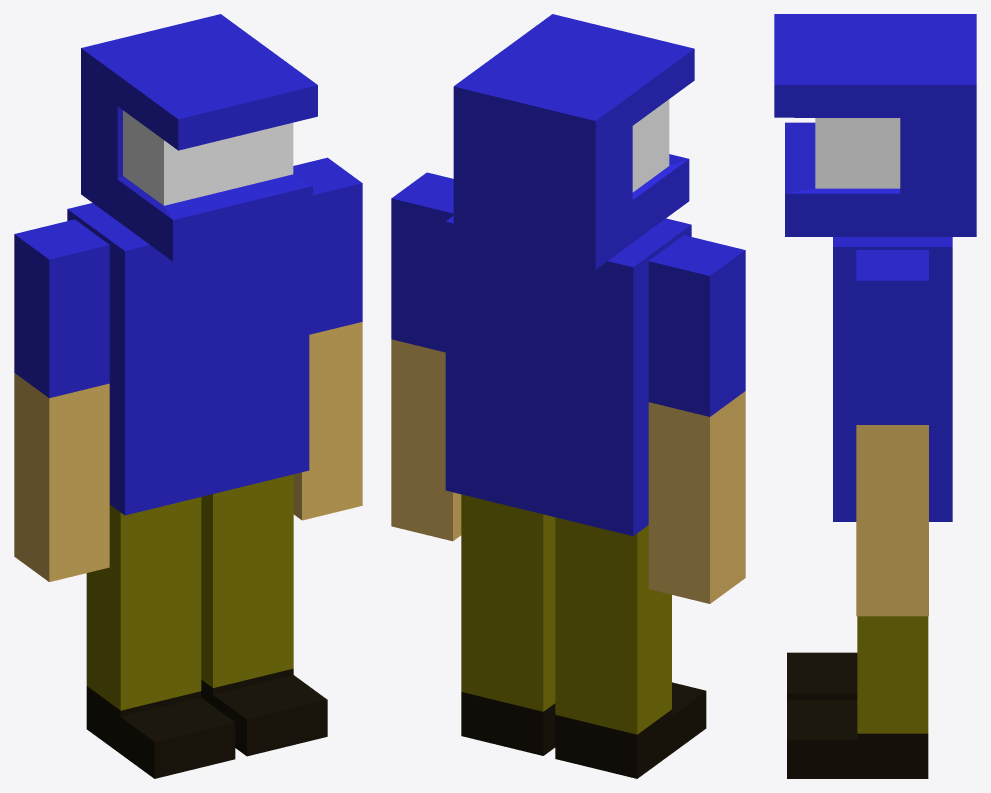
The model's file is Character 3.fbx.
The picture shows the model from 3 angles, left to right: view 1: azimuth 30°, elevation 25°; view 2: azimuth 150°, elevation 25°; view 3: azimuth 270°, elevation 25°; orthographic projection. The views are drawn at different scales.
Visible parts, largest first — view 1: pCube66; view 2: pCube66; view 3: pCube66.
Boxes of the visible parts, bbox=[...] form: pCube66: bbox=[14, 14, 362, 778]; pCube66: bbox=[391, 14, 745, 778]; pCube66: bbox=[774, 14, 976, 778].
Size of the model in its own units: 2.42 by 4.88 by 1.3.
